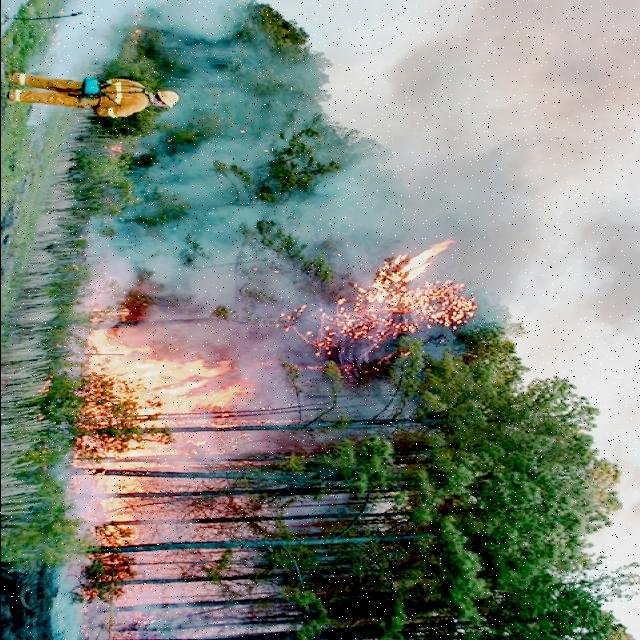api: (87, 346, 243, 412), (350, 244, 460, 332), (77, 435, 163, 529), (109, 526, 155, 608)
asap: (465, 1, 640, 406), (336, 6, 456, 237), (68, 194, 334, 298), (16, 7, 244, 78), (138, 103, 290, 183), (40, 565, 106, 640), (16, 103, 60, 133)
